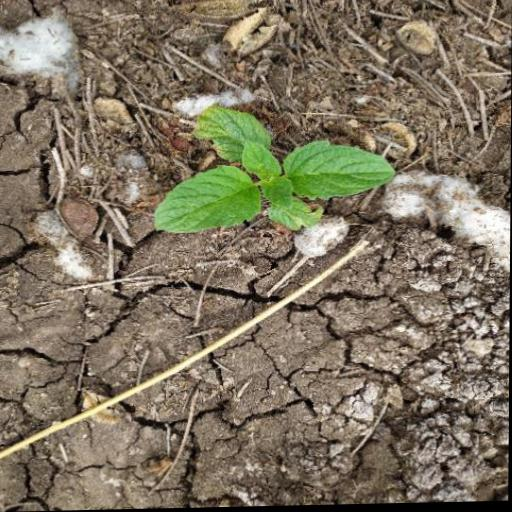crop: (162, 103, 390, 261)
